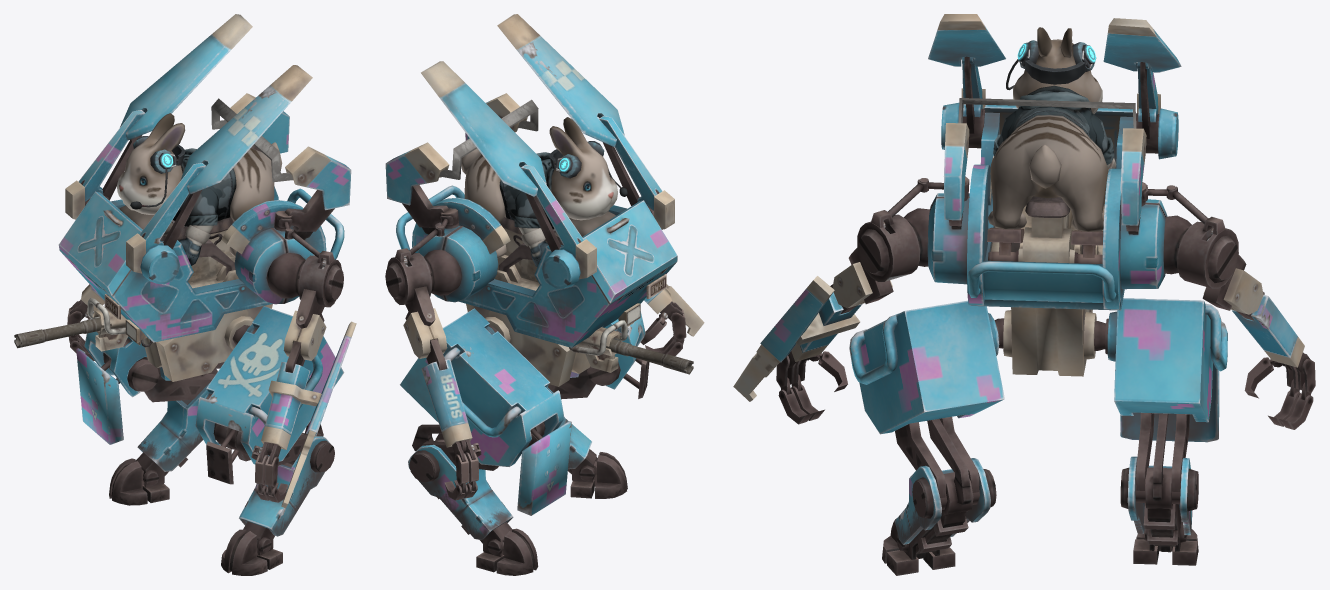
File: bunny_robot.glb
3 renders of one model, left to right at view 1: azimuth 30°, elevation 25°; view 2: azimuth 150°, elevation 25°; view 3: azimuth 270°, elevation 25°, orthographic. The views are drawn at different scales.
Parts seen in each view (by area): view 1: LP_Robot torso_01_low, LP_Robot hip left_01_low, LP_Ear left_01_low, LP_Ear right_01_low, LP_Rabbit_01_low, LP_Rabbit head_01_low, LP_Robot tors dop element_01_low, LP_Flap right_01_low, LP_Shin right_01_low, LP_Shin left_01_low, LP_Side torso element left_01_low, LP_Shoulder mount left_01_low (+34 smaller); view 2: LP_Robot torso_01_low, LP_Robot hip right_01_low, LP_Ear right_01_low, LP_Ear left_01_low, LP_Rabbit head_01_low, LP_Flap right_01_low, LP_Shin right_01_low, LP_Rabbit_01_low, LP_Side torso element right_01_low, LP_Robot tors dop element_01_low, LP_Forearm right_01_low, LP_Shoulder mount right_01_low (+34 smaller); view 3: LP_Robot hip left_01_low, LP_Rabbit_01_low, LP_Robot hip right_01_low, LP_Robot torso_01_low, LP_Robot tors dop element_01_low, LP_Robot tors dop element_02_low, LP_Side torso element right_01_low, LP_Side torso element left_01_low, LP_Ear right_01_low, LP_Ear left_01_low, LP_Rabbit head_01_low, LP_Shin left_01_low (+35 smaller).
Part boxes in pixels (bbox=[...]): LP_Robot torso_01_low: bbox=[58, 186, 326, 342]; LP_Robot hip left_01_low: bbox=[195, 306, 344, 464]; LP_Ear left_01_low: bbox=[180, 65, 312, 193]; LP_Ear right_01_low: bbox=[120, 14, 252, 140]; LP_Rabbit_01_low: bbox=[172, 142, 282, 256]; LP_Rabbit head_01_low: bbox=[117, 113, 185, 214]; LP_Robot tors dop element_01_low: bbox=[143, 304, 272, 381]; LP_Flap right_01_low: bbox=[76, 348, 123, 444]; LP_Shin right_01_low: bbox=[137, 383, 209, 471]; LP_Shin left_01_low: bbox=[239, 436, 330, 536]; LP_Side torso element left_01_low: bbox=[234, 228, 314, 304]; LP_Shoulder mount left_01_low: bbox=[285, 146, 351, 210]; LP_Robot torso_01_low: bbox=[412, 197, 677, 347]; LP_Robot hip right_01_low: bbox=[400, 308, 564, 466]; LP_Ear right_01_low: bbox=[421, 61, 546, 196]; LP_Ear left_01_low: bbox=[497, 14, 624, 146]; LP_Rabbit head_01_low: bbox=[549, 117, 617, 220]; LP_Flap right_01_low: bbox=[517, 421, 571, 515]; LP_Shin right_01_low: bbox=[408, 444, 513, 540]; LP_Rabbit_01_low: bbox=[461, 148, 555, 258]; LP_Side torso element right_01_low: bbox=[418, 225, 498, 302]; LP_Robot tors dop element_01_low: bbox=[466, 304, 590, 386]; LP_Forearm right_01_low: bbox=[421, 359, 472, 447]; LP_Shoulder mount right_01_low: bbox=[385, 142, 449, 205]; LP_Robot hip left_01_low: bbox=[859, 300, 1004, 434]; LP_Rabbit_01_low: bbox=[988, 85, 1108, 231]; LP_Robot hip right_01_low: bbox=[1114, 298, 1212, 422]; LP_Robot torso_01_low: bbox=[967, 105, 1133, 310]; LP_Robot tors dop element_01_low: bbox=[1011, 307, 1092, 376]; LP_Robot tors dop element_02_low: bbox=[983, 260, 1103, 302]; LP_Side torso element right_01_low: bbox=[1120, 199, 1167, 289]; LP_Side torso element left_01_low: bbox=[927, 193, 988, 284]; LP_Ear right_01_low: bbox=[1103, 18, 1181, 72]; LP_Ear left_01_low: bbox=[928, 14, 1005, 66]; LP_Rabbit head_01_low: bbox=[1013, 27, 1102, 113]; LP_Shin left_01_low: bbox=[895, 458, 990, 544].
Bounding box in the file's own units: 791 × 1216 × 1092.
Materials: 1 (1 with a texture image).
